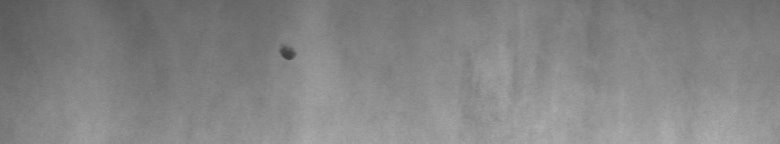fi: (275, 39, 300, 68)
